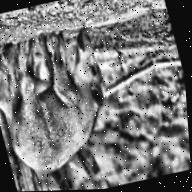boar: (0, 1, 148, 188)
